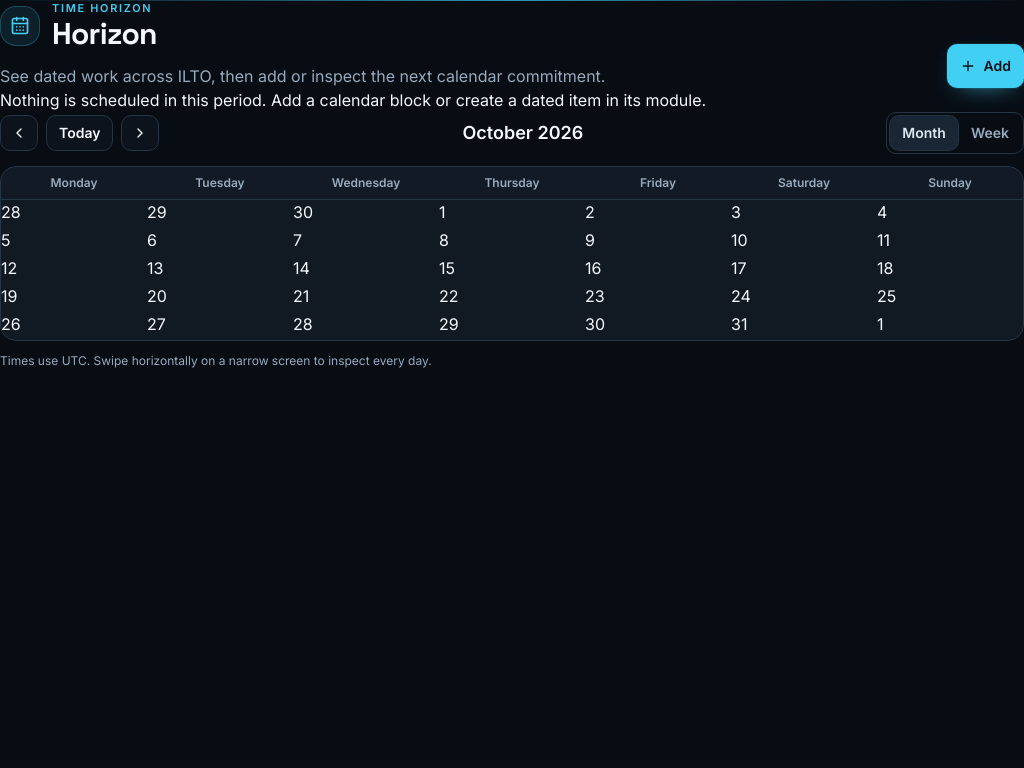
it: Horizon page › retains a failed form and shows the backend validation message
Check: the text "Nothing is scheduled in this period" is shown, box x1=0 y1=90 x2=706 y2=110
Click the button "Add" at (985, 66), box x1=946 y1=44 x2=1023 y2=88
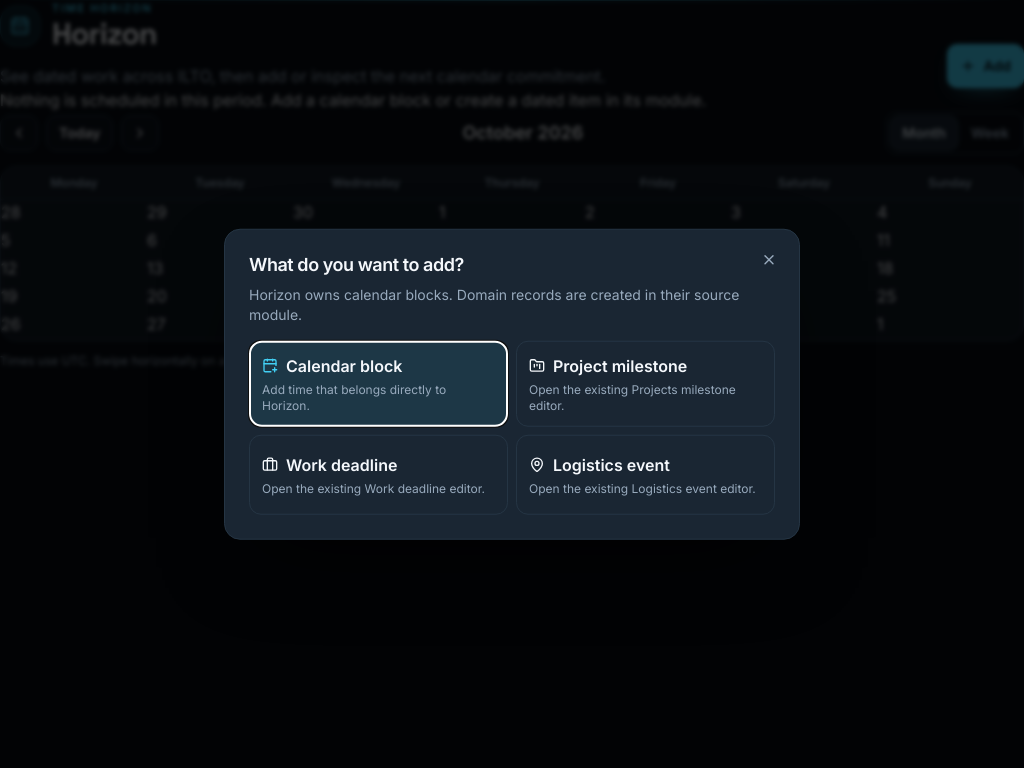
Click the button "Calendar block Add time that belongs directly to Horizon." at (378, 383), box x1=249 y1=340 x2=508 y2=426
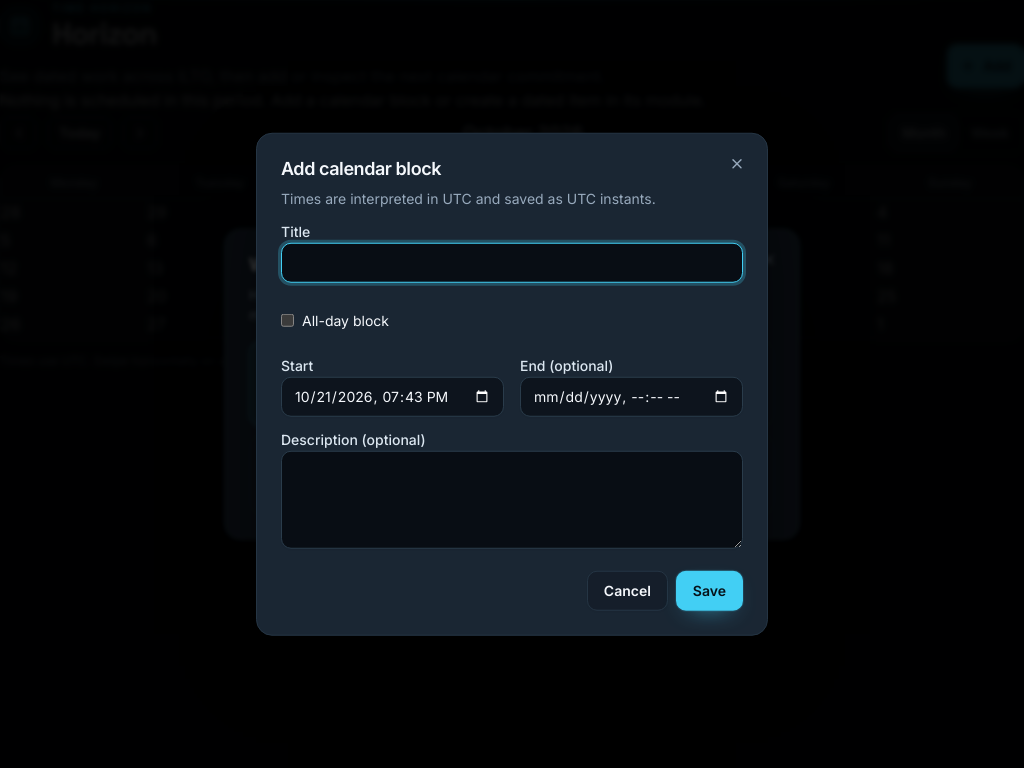
Type "Retained value" into the field labelled "Title" at (512, 262), box x1=281 y1=242 x2=743 y2=282
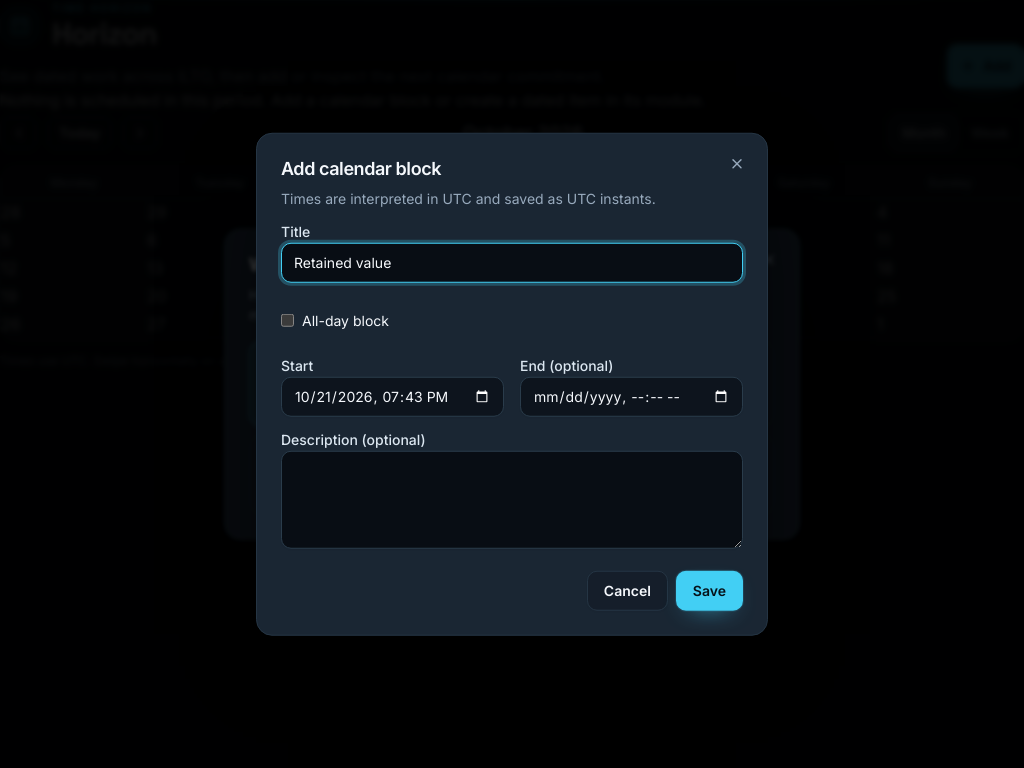
Click the button "Save" at (709, 590), box x1=676 y1=570 x2=743 y2=610
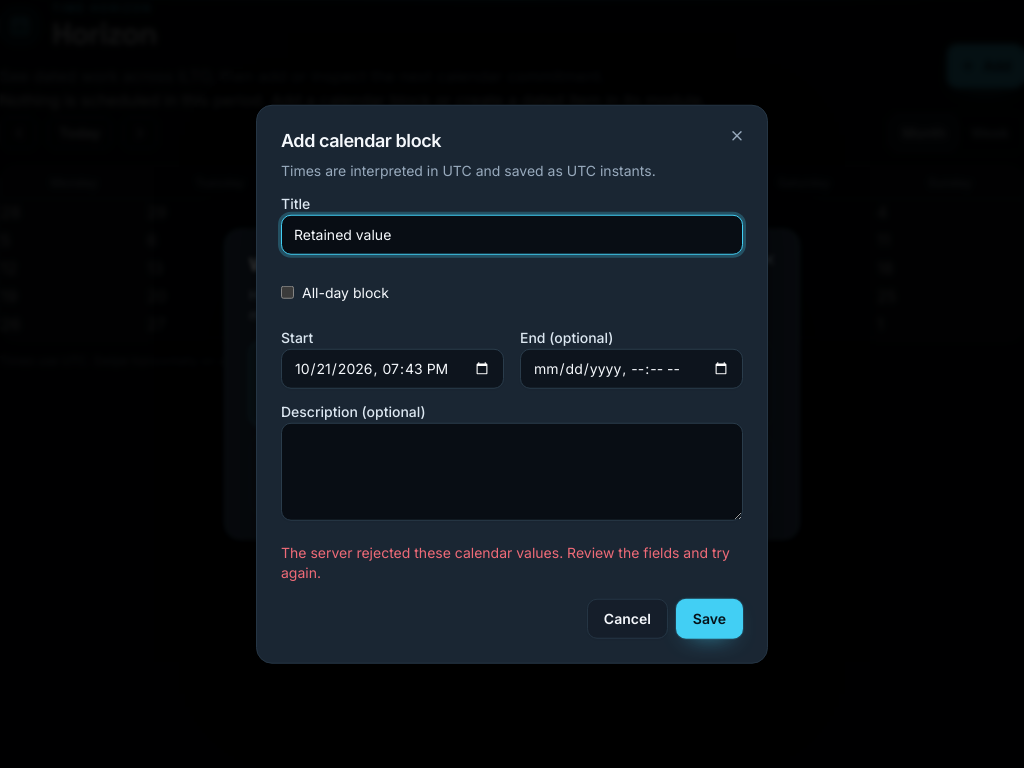
Check: the message shows "server rejected these calendar values", box x1=281 y1=543 x2=730 y2=580
